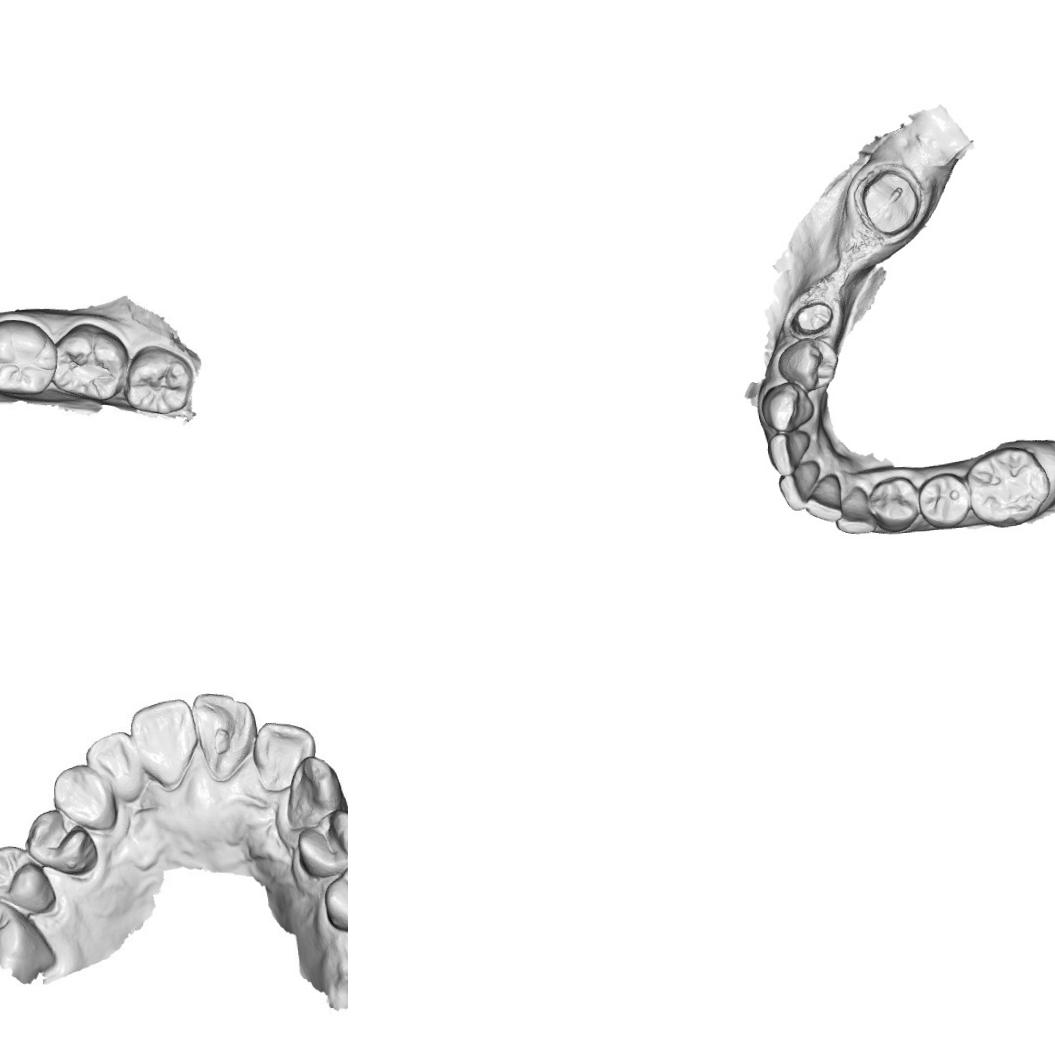canine: (280, 756, 348, 834), (50, 762, 119, 836), (775, 336, 840, 395), (834, 484, 877, 536)
crown: (856, 169, 922, 240), (789, 300, 836, 338)
incisor: (129, 700, 203, 792), (188, 693, 258, 781), (253, 718, 315, 794), (84, 729, 140, 799), (759, 380, 816, 432), (777, 460, 822, 512), (766, 430, 812, 478), (803, 472, 843, 524)
molar: (965, 444, 1052, 528), (52, 323, 125, 400), (122, 342, 192, 416), (0, 315, 60, 401)
premolar: (22, 808, 97, 884), (293, 807, 348, 879), (0, 841, 53, 913), (866, 474, 922, 533), (916, 470, 970, 530), (320, 859, 348, 934)
